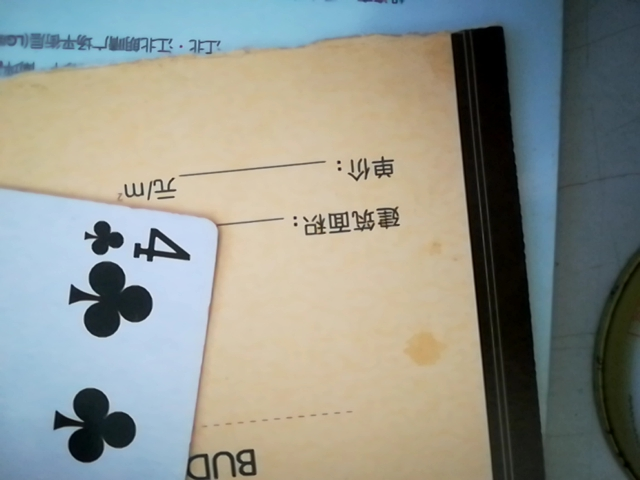mh 4: (0, 173, 219, 480)
